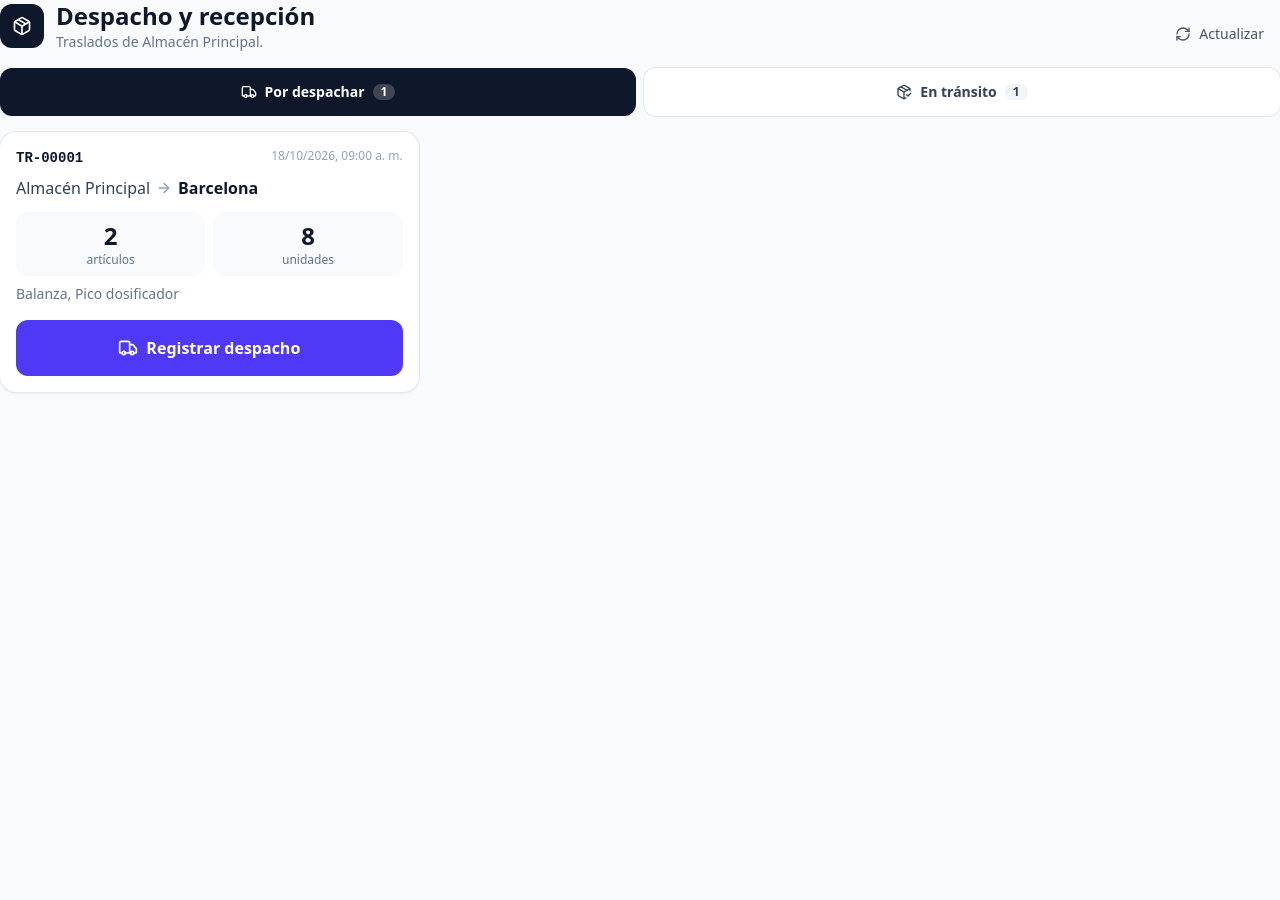
Test: Despacho y recepción › el embalador despacha desde el almacén tras confirmar, con las cantidades aprobadas
expect the tab "En tránsito 1" is shown: met, box [644, 68, 1279, 116]
What coordinates should you click on to do the following:
click the button "Registrar despacho"
I would click on:
 (209, 348)
Its box is [16, 320, 403, 376].
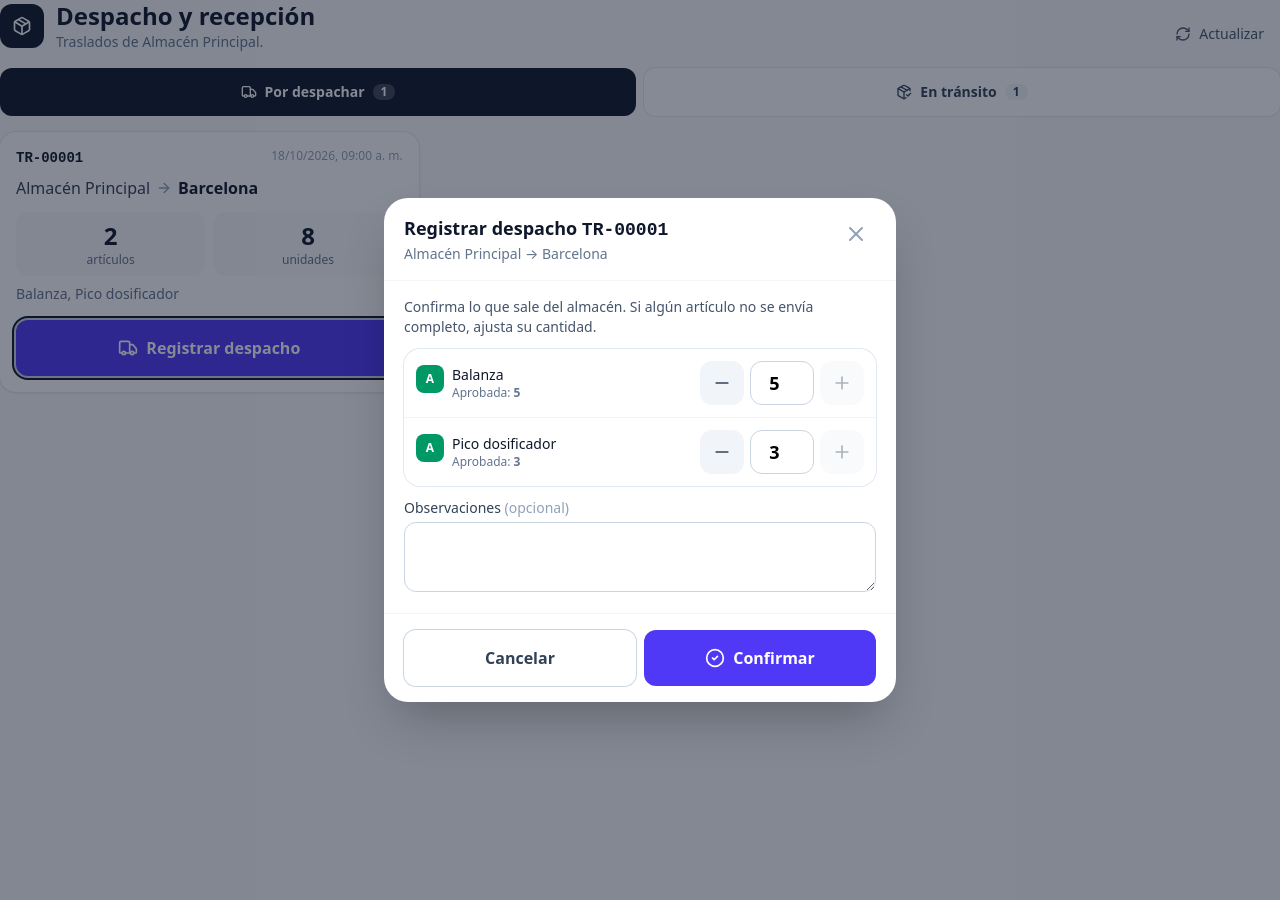
Cancelar no ejecuta nada: protege de toques accidentales.
What coordinates should you click on to do the following:
click the button "Cancelar"
I would click on:
 (520, 658)
Its box is [404, 630, 636, 686].
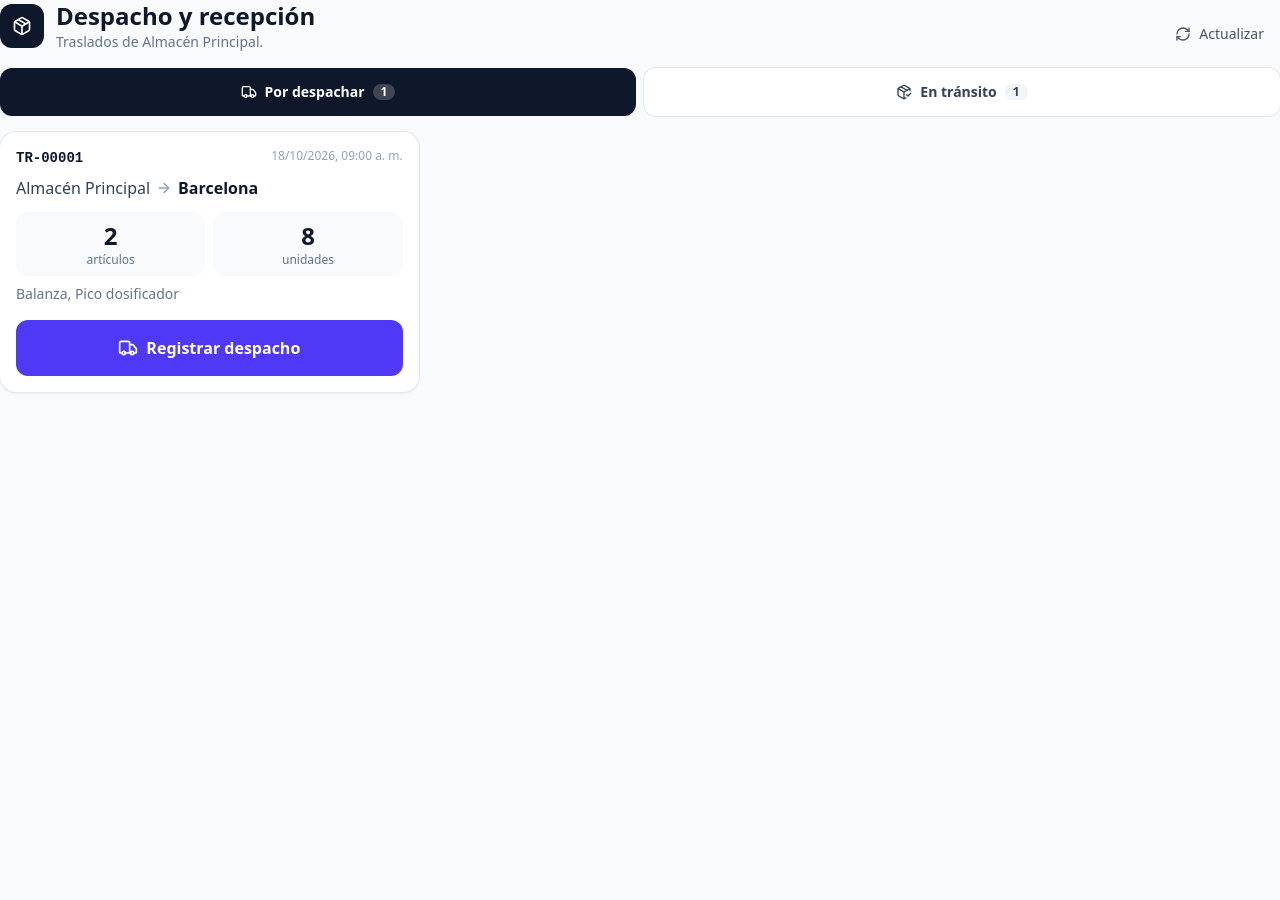
What coordinates should you click on to do the following:
click the button "Registrar despacho"
I would click on:
 (209, 348)
Its box is [16, 320, 403, 376].
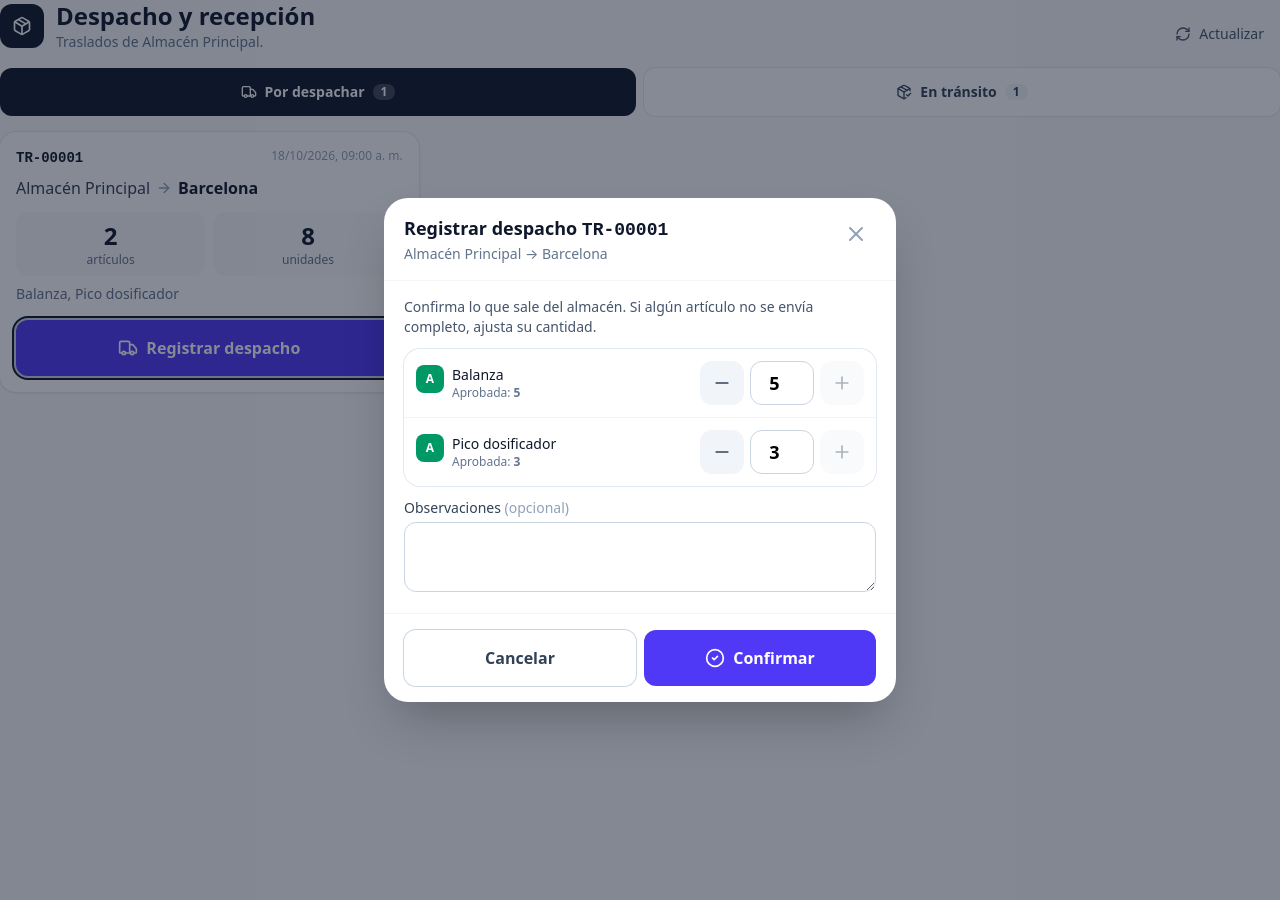
What coordinates should you click on to do the following:
click the button named "Restar 1 a Despachada: Pico dosificador"
I would click on:
 (722, 452)
Its box is [700, 430, 744, 474].
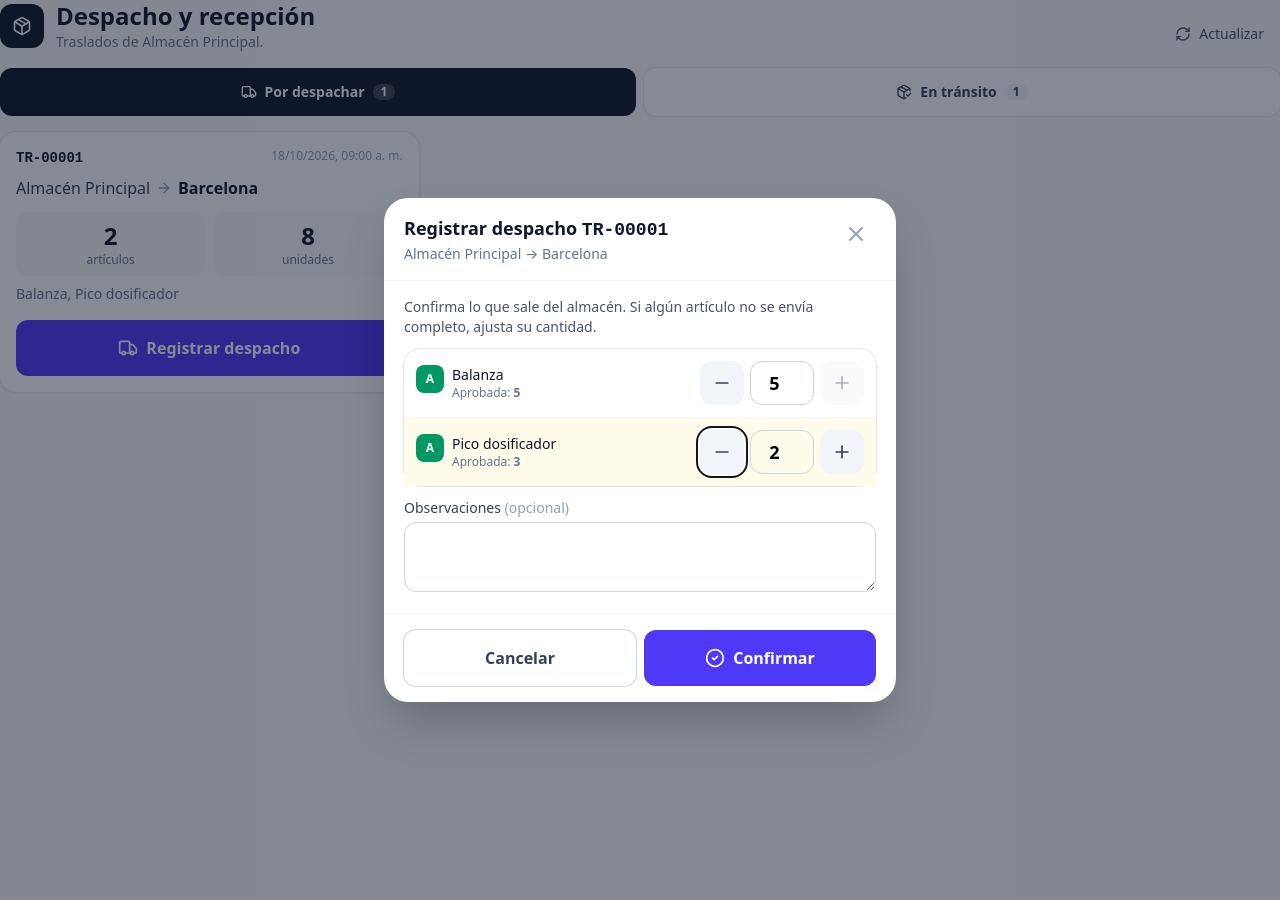
What coordinates should you click on to do the following:
click the button "Confirmar"
I would click on:
 (760, 658)
Its box is [644, 630, 876, 686].
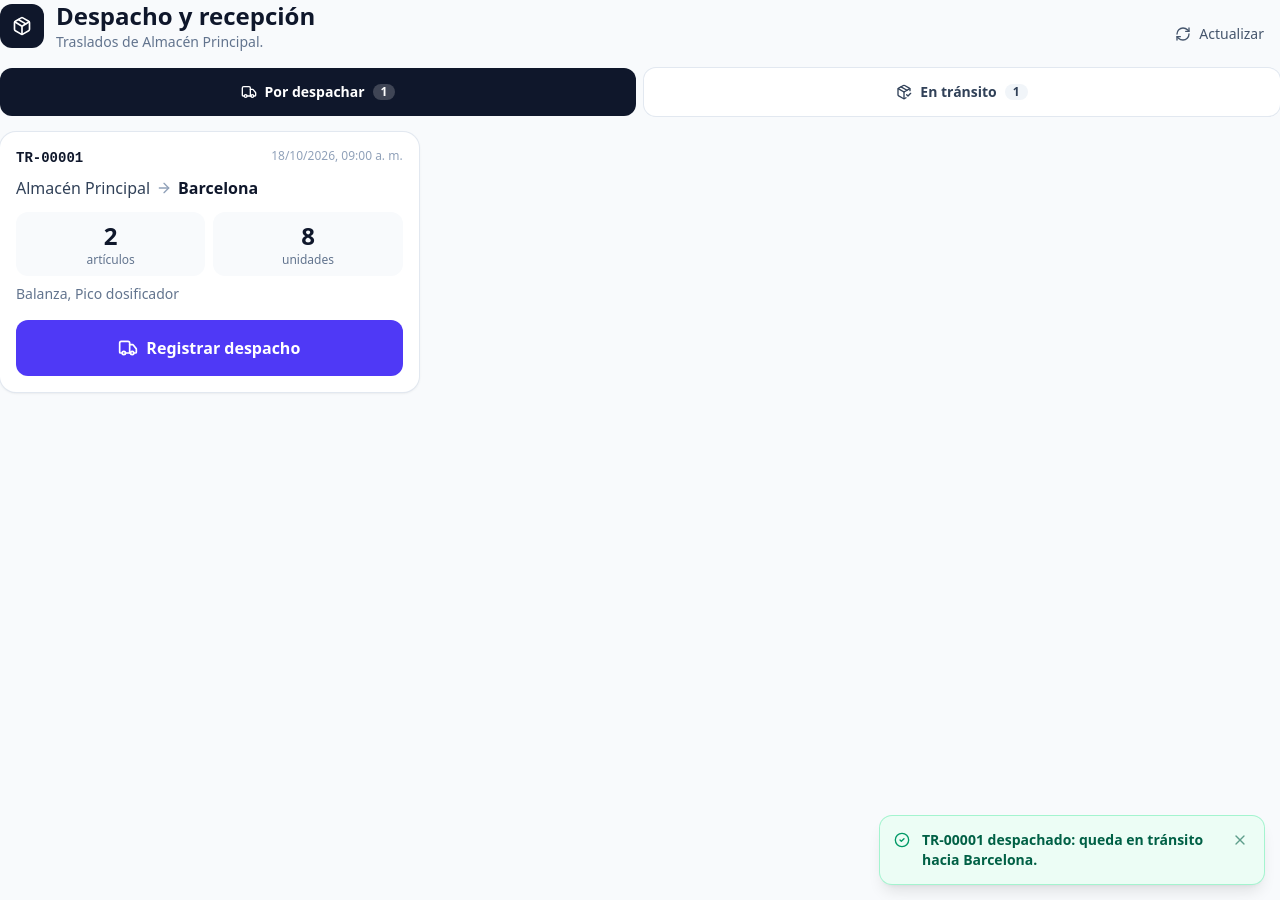
expect the text "TR-00001 despachado: queda en tránsito hacia Barcelona." is shown: met, box [922, 830, 1218, 870]
